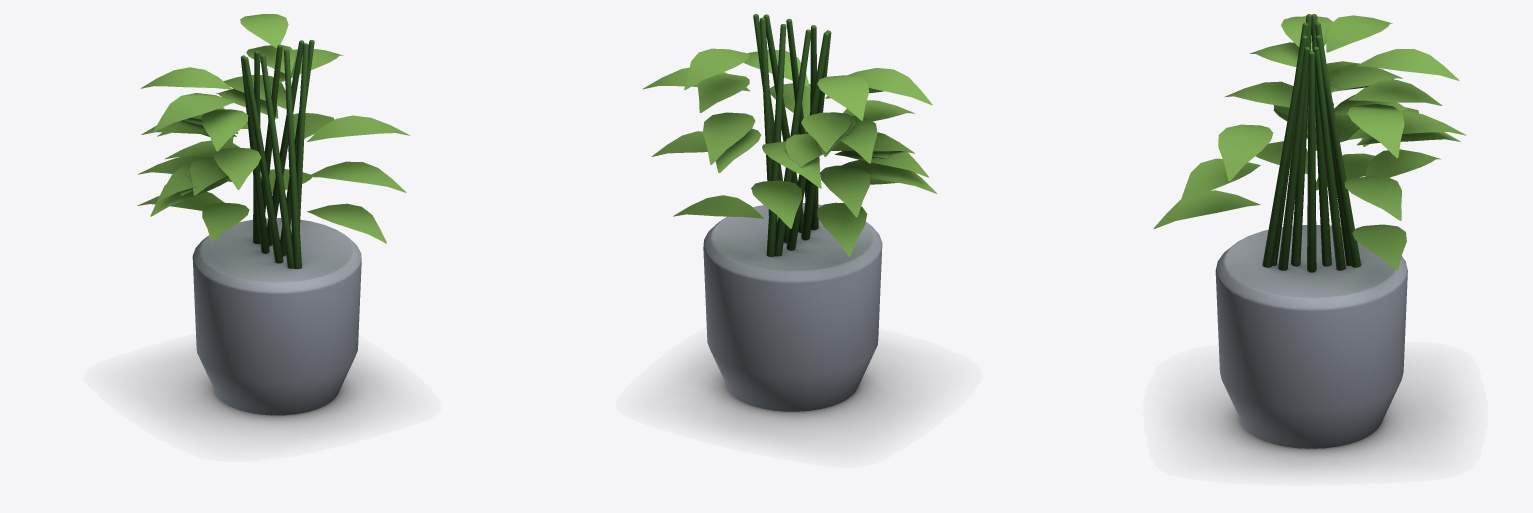
Rendered from plant.glb.
3 views of the same model, side by side, from view 1: azimuth 30°, elevation 25°; view 2: azimuth 150°, elevation 25°; view 3: azimuth 270°, elevation 25° (orthographic). The views are drawn at different scales.
Visible parts, largest first — view 1: living_room__Large potted plant__mesh, living_room__Large potted plant__shadow; view 2: living_room__Large potted plant__mesh, living_room__Large potted plant__shadow; view 3: living_room__Large potted plant__mesh, living_room__Large potted plant__shadow.
Part boxes in pixels (left/top/right/bottom): living_room__Large potted plant__mesh: left=137, top=14, right=410, bottom=415; living_room__Large potted plant__shadow: left=144, top=350, right=390, bottom=436; living_room__Large potted plant__mesh: left=643, top=14, right=936, bottom=411; living_room__Large potted plant__shadow: left=675, top=348, right=918, bottom=441; living_room__Large potted plant__mesh: left=1153, top=14, right=1466, bottom=448; living_room__Large potted plant__shadow: left=1183, top=370, right=1449, bottom=470.
Bounding box in the file's own units: 0.9466 × 0.9771 × 0.9556.
Materials: 2 (2 with a texture image).
